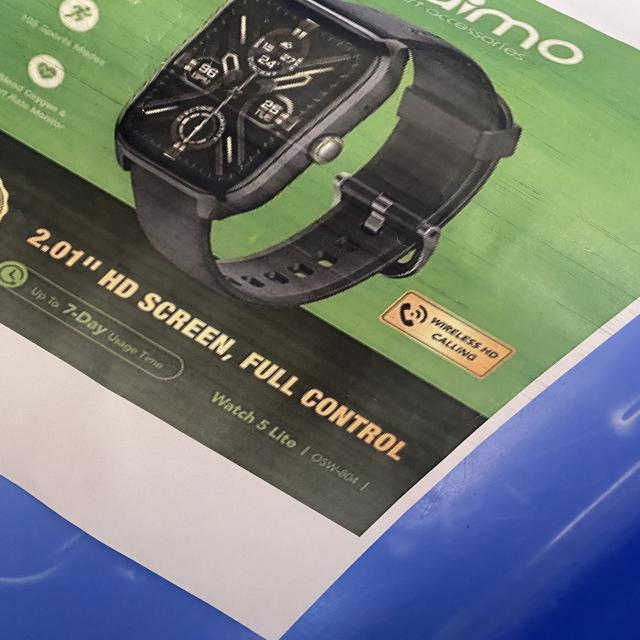Watch 5 Lite OSW-804: (193, 379, 387, 499)
